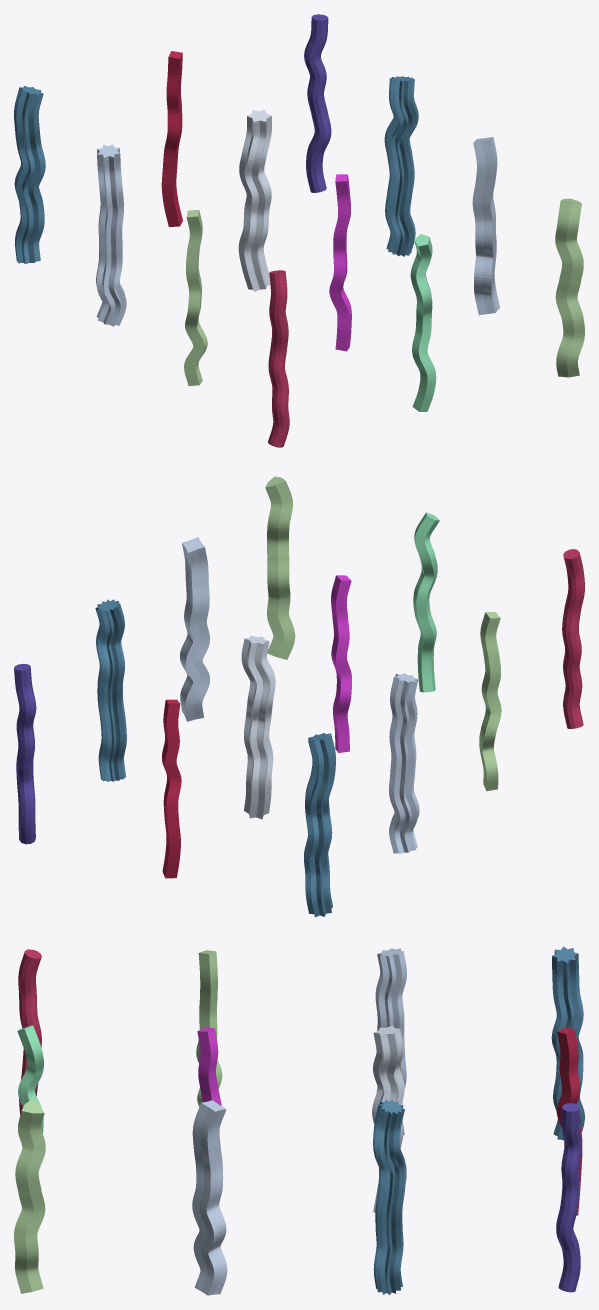
File: std_mats_1_OpenedSplineTest_2023-06-04-21-23-01.gltf
3 renders of one model, top to bottom at view 1: azimuth 30°, elevation 25°; view 2: azimuth 150°, elevation 25°; view 3: azimuth 270°, elevation 25°, orthographic. The views are drawn at different scales.
Bounding box in the file's own units: 439 × 234 × 635.
